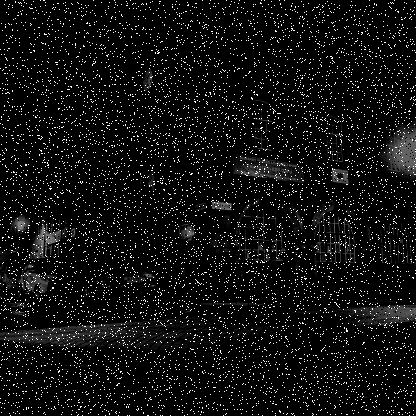Car: (69, 262, 156, 298), (17, 256, 73, 298), (0, 259, 29, 297)
